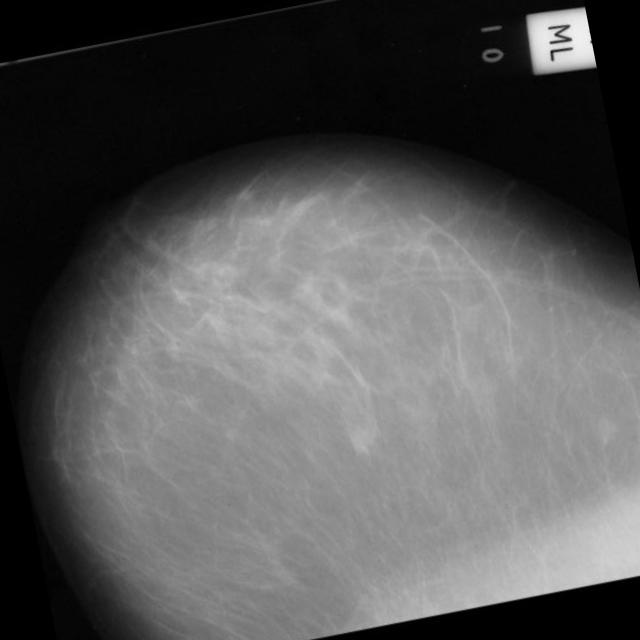MISC: (627, 412, 640, 454)
